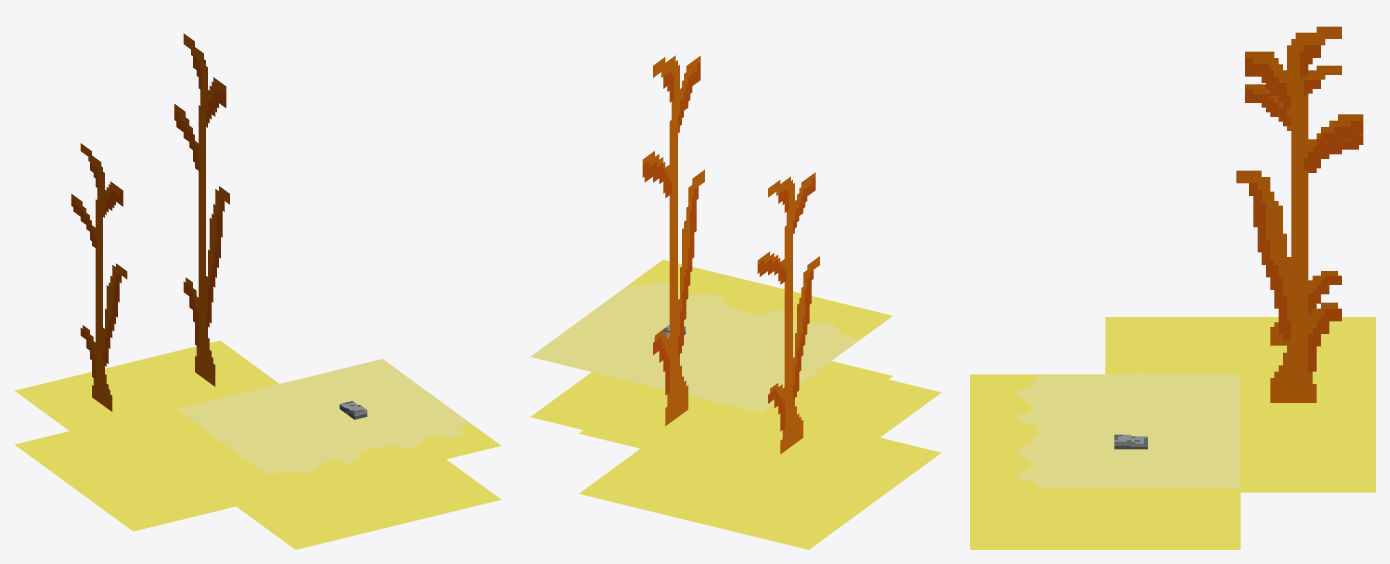
Rendered from MapBaru.gltf.
3 views of the same model, side by side, from view 1: azimuth 30°, elevation 25°; view 2: azimuth 150°, elevation 25°; view 3: azimuth 270°, elevation 25° (orthographic). The views are drawn at different scales.
Parts seen in each view (by area): view 1: mesh (×7); view 2: mesh (×7); view 3: mesh (×7).
Part boxes in pixels (x1=…): mesh (×7): x1=14, y1=33, x2=501, y2=549; mesh (×7): x1=530, y1=55, x2=941, y2=549; mesh (×7): x1=970, y1=26, x2=1375, y2=549.
Size of the model in its own units: 3 by 3.67 by 3.
Materials: 5 (5 with a texture image).
